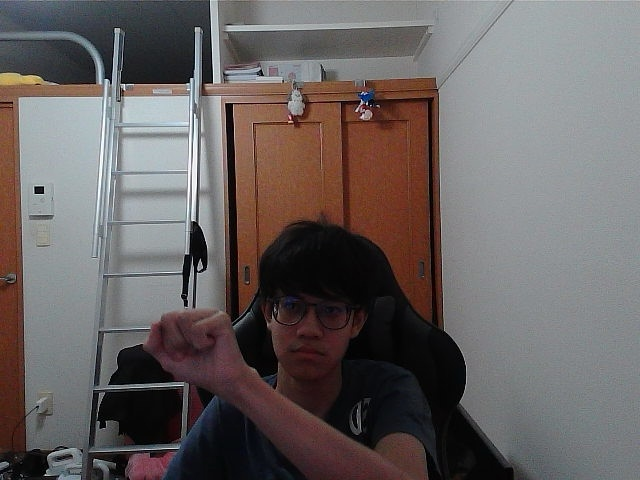closed_palm: (154, 319, 220, 381)
